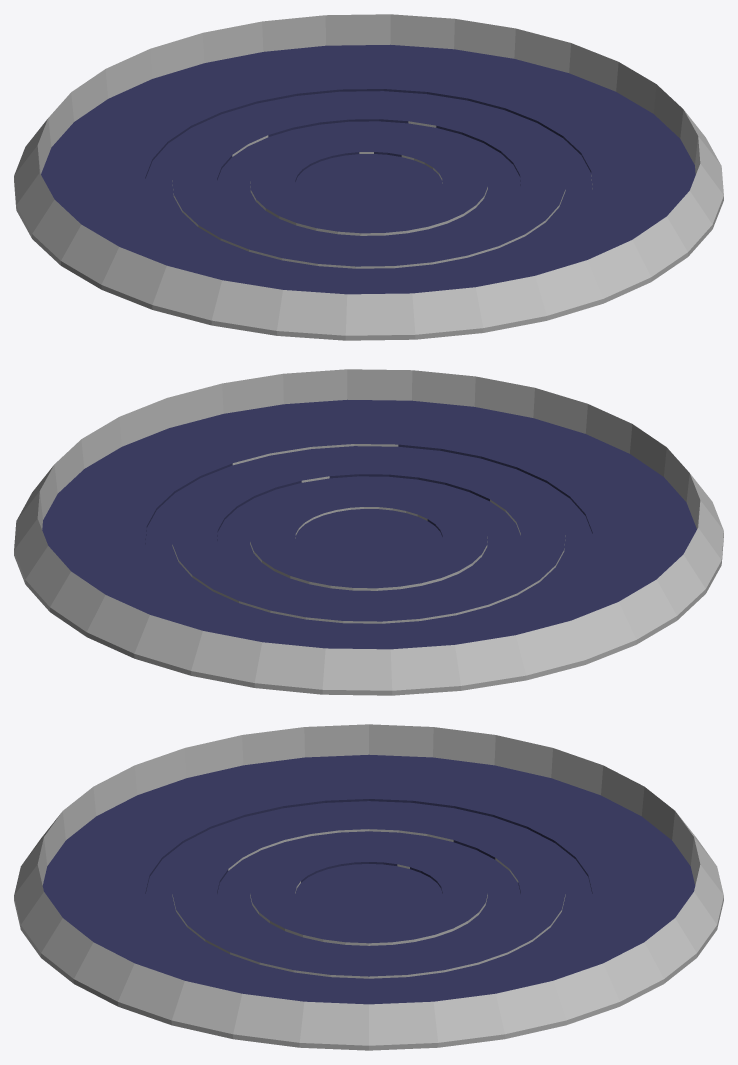
Rendered from JumpPad.fbx.
3 views of the same model, one above another, from view 1: azimuth 30°, elevation 25°; view 2: azimuth 150°, elevation 25°; view 3: azimuth 270°, elevation 25° (orthographic).
Parts seen in each view (by area): view 1: JumpPad; view 2: JumpPad; view 3: JumpPad.
Part boxes in pixels (x1=…): JumpPad: x1=14, y1=14, x2=723, y2=340; JumpPad: x1=14, y1=369, x2=723, y2=695; JumpPad: x1=14, y1=724, x2=723, y2=1050.
Bounding box in the file's own units: 89.78 × 5.06 × 89.78.
